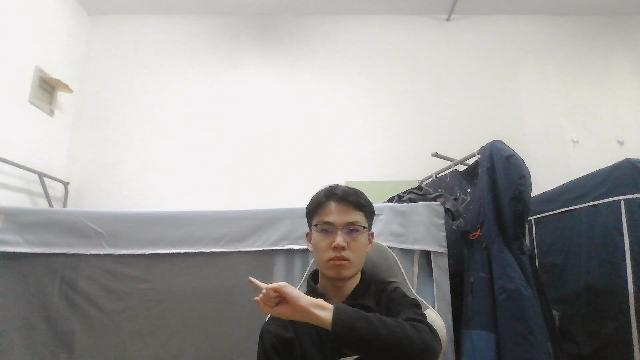one: (246, 272, 331, 321)
